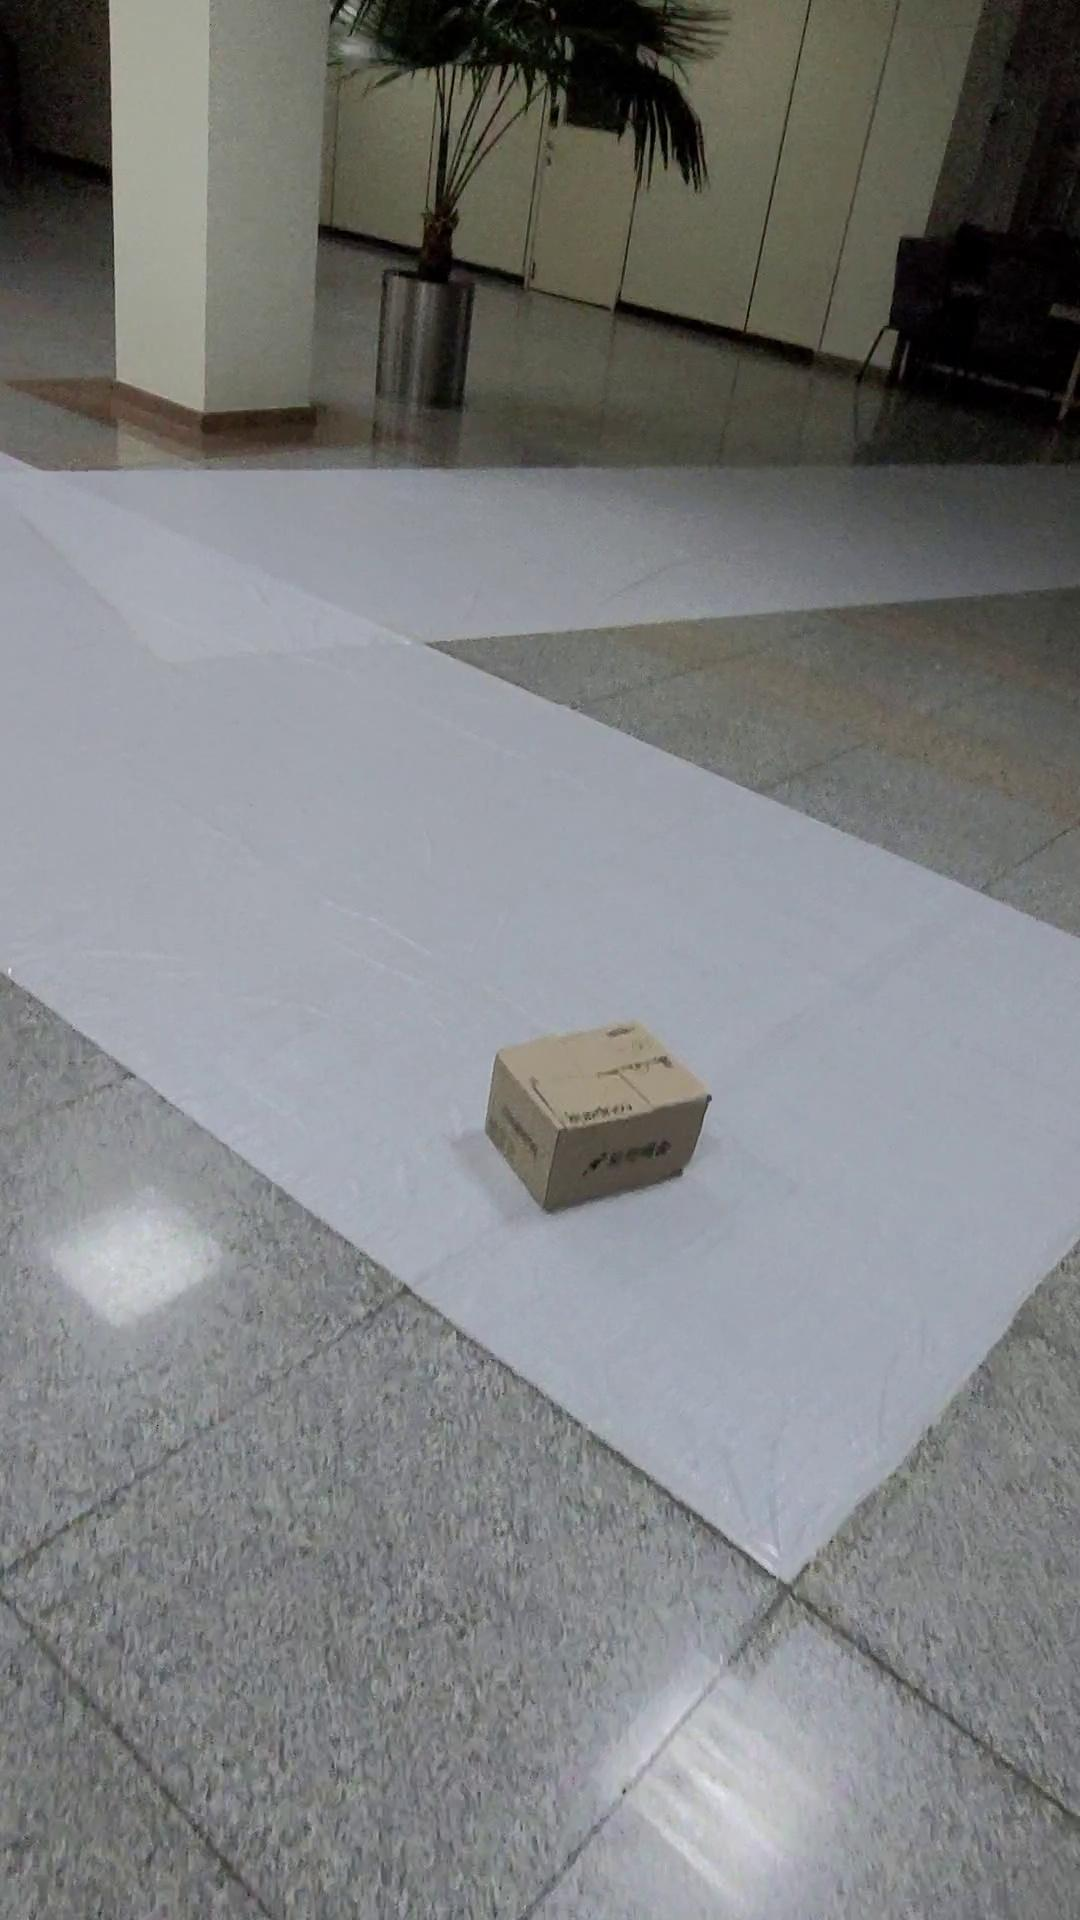Box: (473, 1010, 717, 1232)
